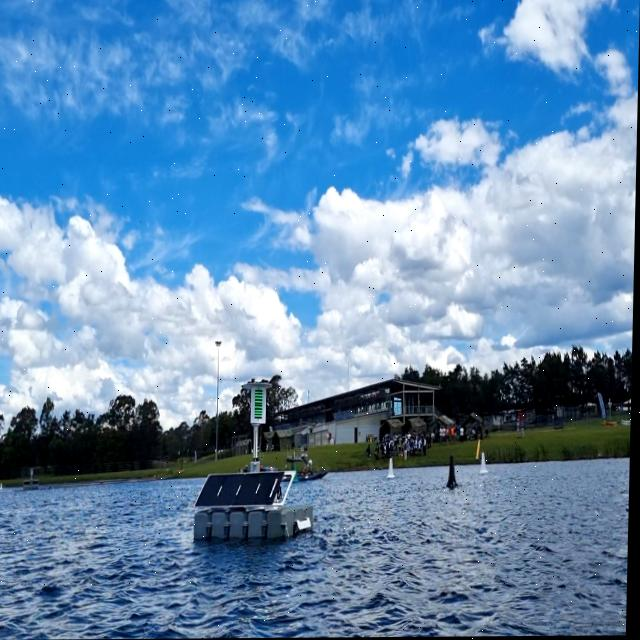led: (254, 388, 267, 422)
